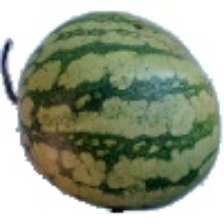watermelon: (13, 51, 172, 214)
